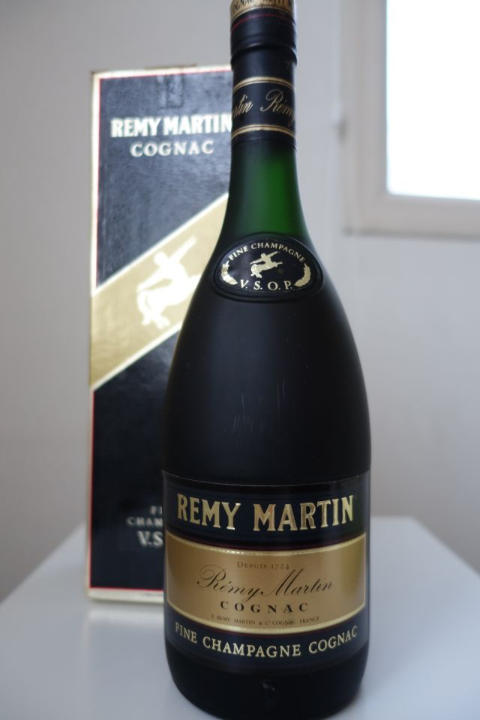Remy Martin: (134, 1, 398, 720)
